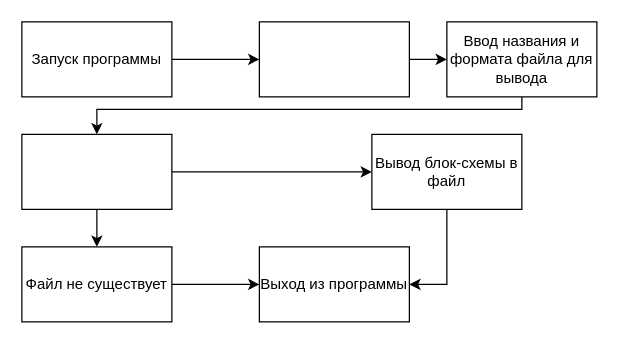
The diagram is 619 pixels wide and 344 high, and some of its shapes have lost their labels. Each missing label, with the box of its shape:
Ввод имени Python файла: (21, 133, 172, 209)
Ввод опциональных аргументов: (258, 21, 409, 97)
